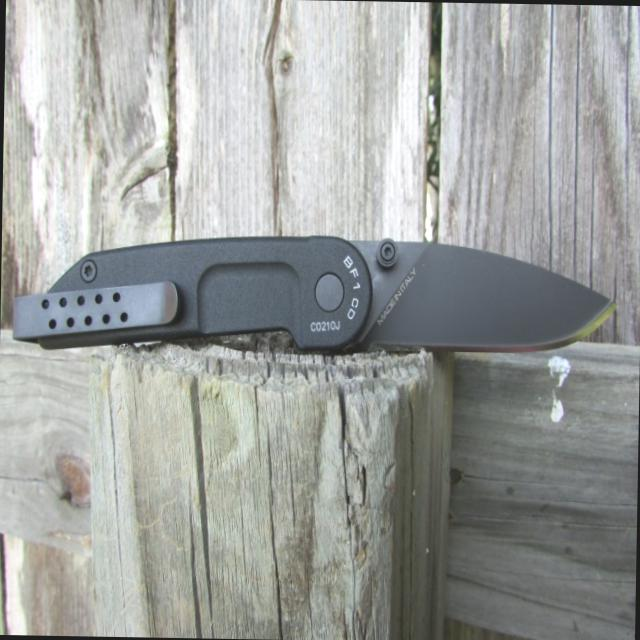knife: (318, 230, 630, 364)
